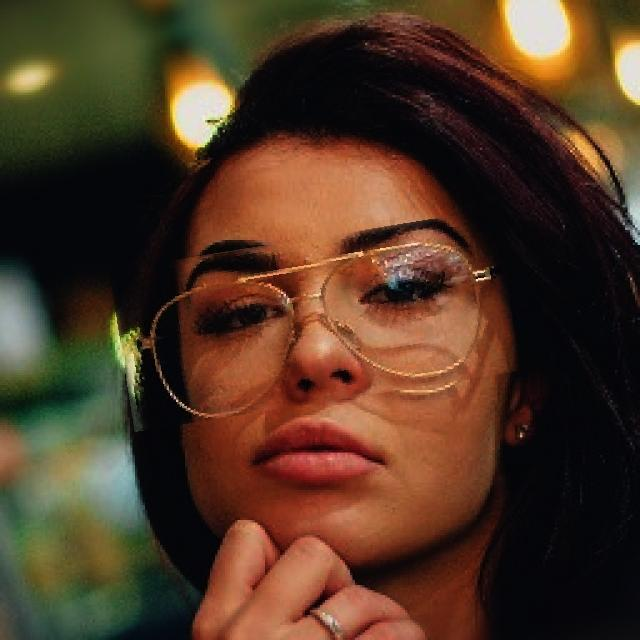glasses: (114, 224, 515, 418)
